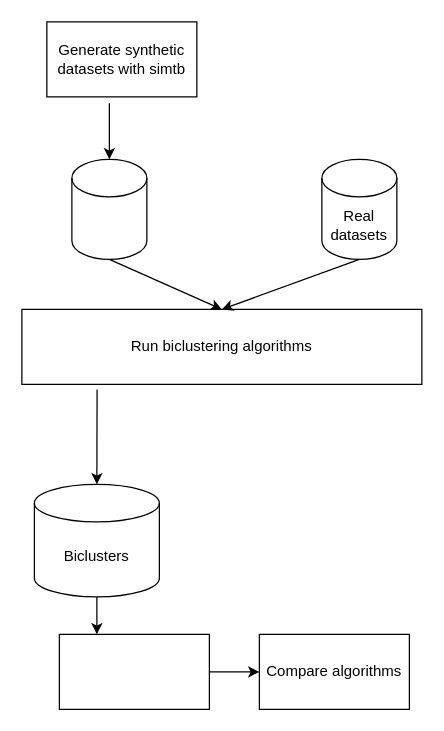
This 444x731 diagram has some shape labels left out. Each missing label, with the centre of its shape:
Compute metrics: point (133, 671)
Synthetic datasets: point (109, 208)
